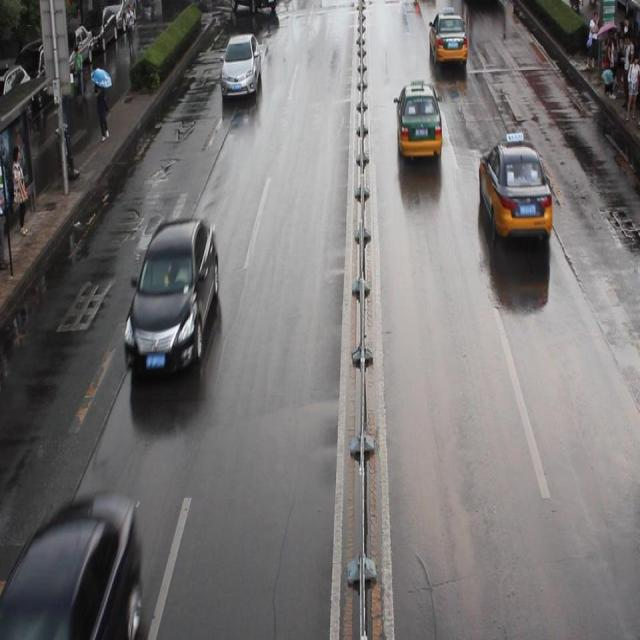car: (1, 488, 142, 640), (124, 217, 219, 377), (478, 138, 552, 240), (395, 80, 442, 159), (220, 34, 261, 98), (428, 12, 467, 62)
